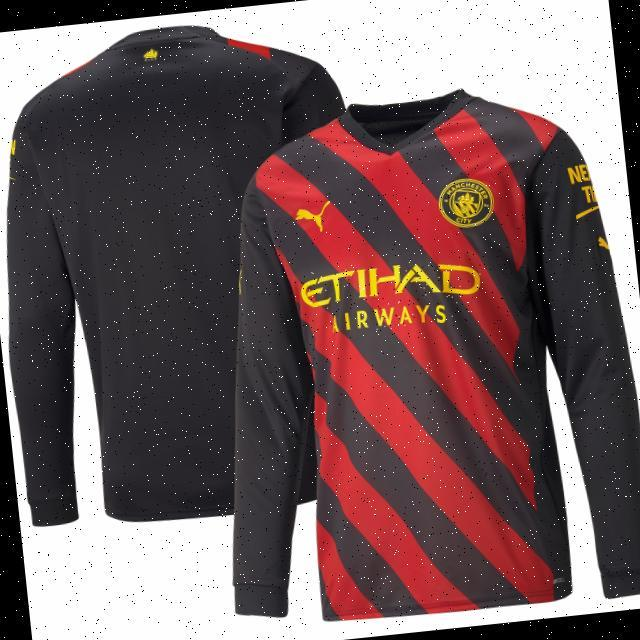Etihad Airways: (298, 254, 486, 338)
Puma: (294, 198, 333, 234)
